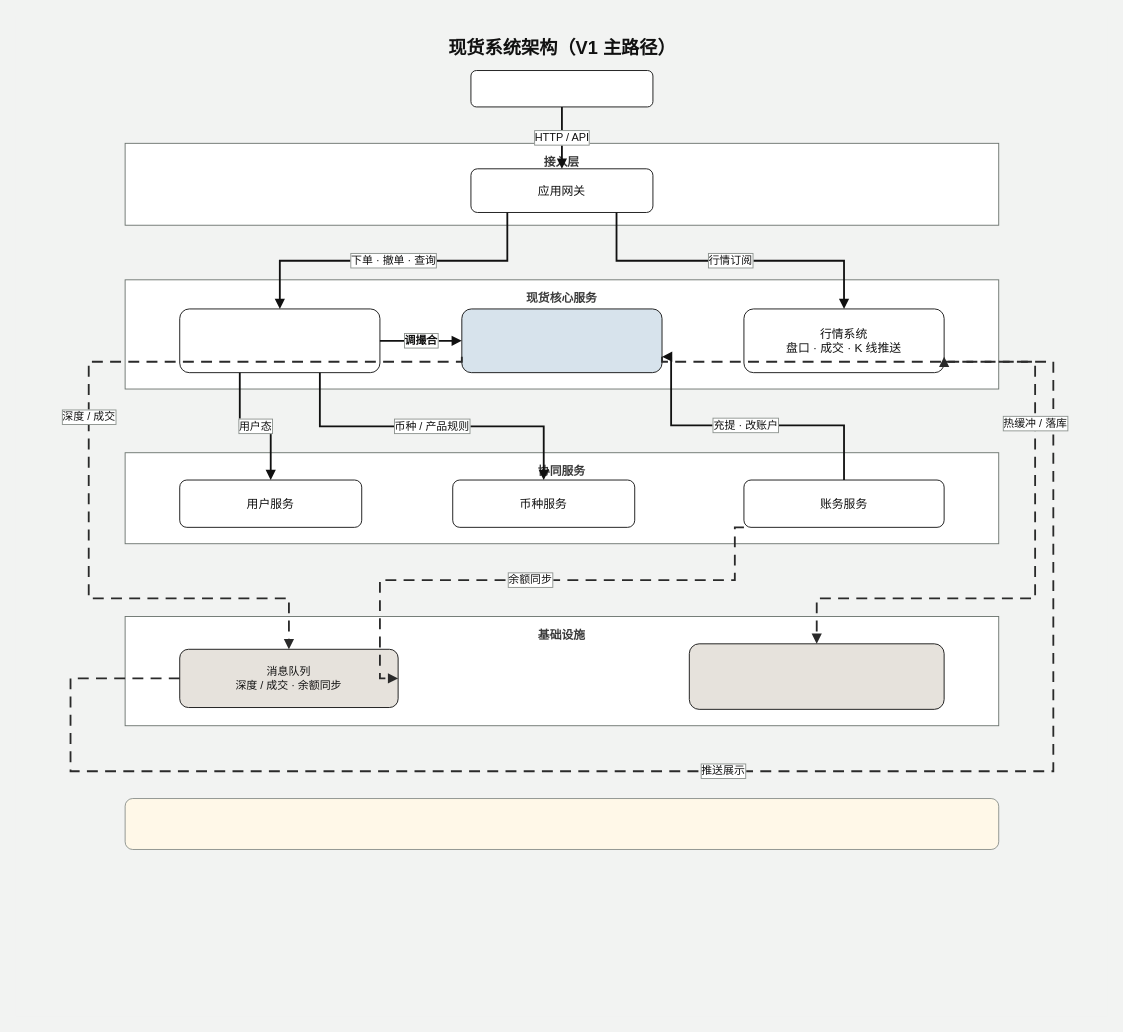
Image size: 1123x1032. Some labels were removed from this diagram. The centre of each missing label's shape, as x and y in pixels:
委托系统 受理 · 校验 · 编排: the point at 279,340
存储 Redis · LevelDB · MySQL / ES 热缓冲 · 写前日志 · 冷数据: the point at 816,676
实线：同步主路径 虚线：异步旁路 委托受理编排；撮合持有订单簿与运行态账户（V1）；行情只做展示推送；账务协同不挡下单主链: the point at 561,823
撮合系统 订单簿 · 热缓存 · 事件链: the point at 561,340
用户 / 机器人: the point at 561,88
